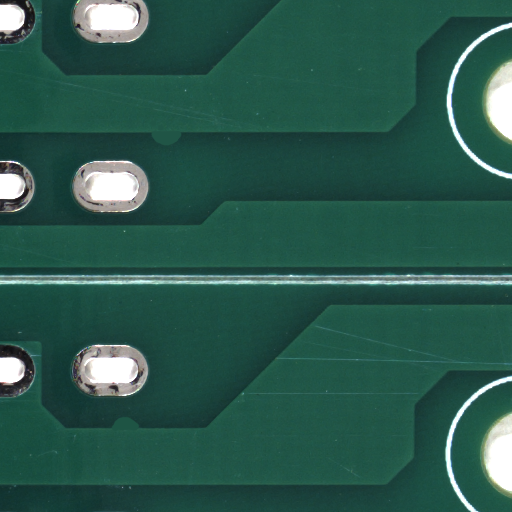Spur: (168, 136, 205, 151), (126, 422, 157, 435)
